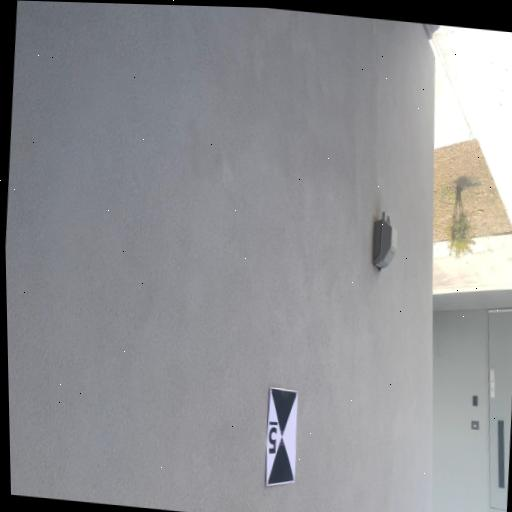target5: (266, 388, 298, 487)
